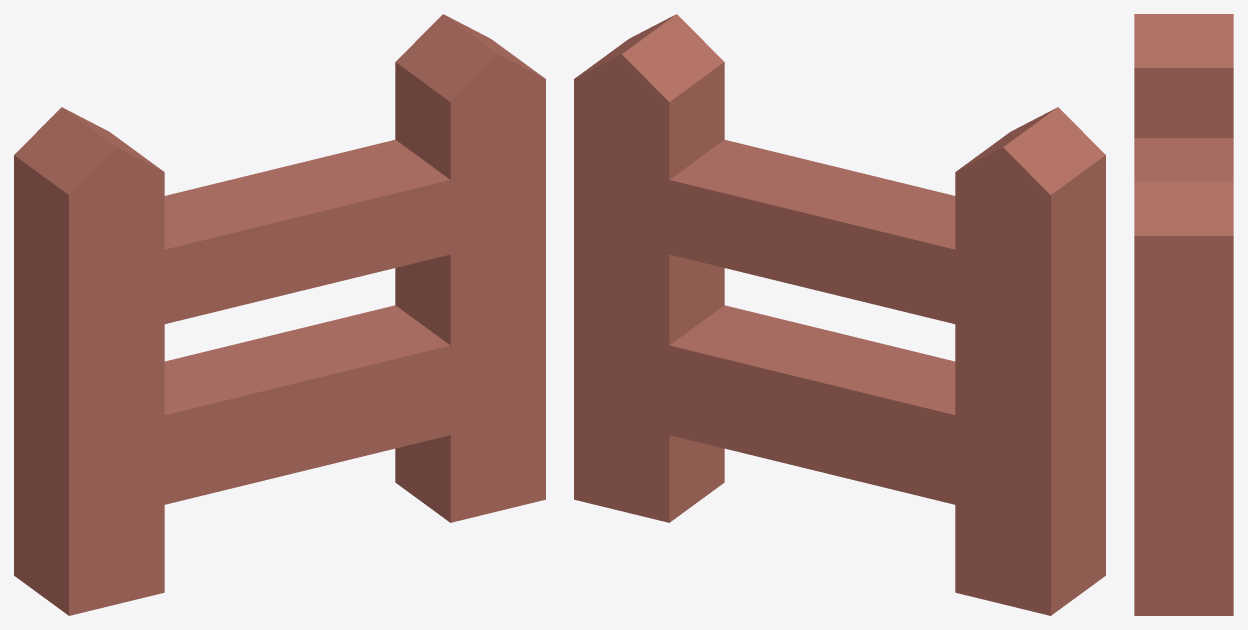
Rendered from fence.fbx.
3 renders of one model, left to right at view 1: azimuth 30°, elevation 25°; view 2: azimuth 150°, elevation 25°; view 3: azimuth 270°, elevation 25°, orthographic. The views are drawn at different scales.
Visible parts, largest first — view 1: Fence; view 2: Fence; view 3: Fence.
Part boxes in pixels (left/top/right/bottom): Fence: left=14, top=14, right=545, bottom=615; Fence: left=574, top=14, right=1105, bottom=615; Fence: left=1134, top=14, right=1233, bottom=615.
Bounding box in the file's own units: 500 × 458 × 100.
